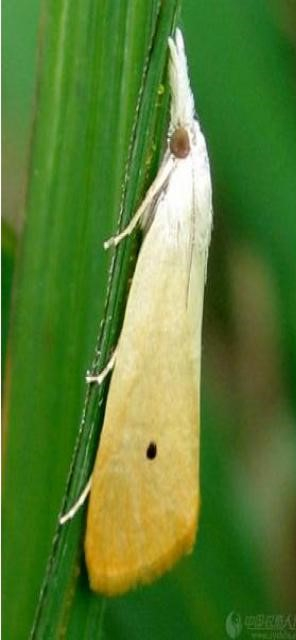yellow-stem-borer: (56, 21, 231, 614)
